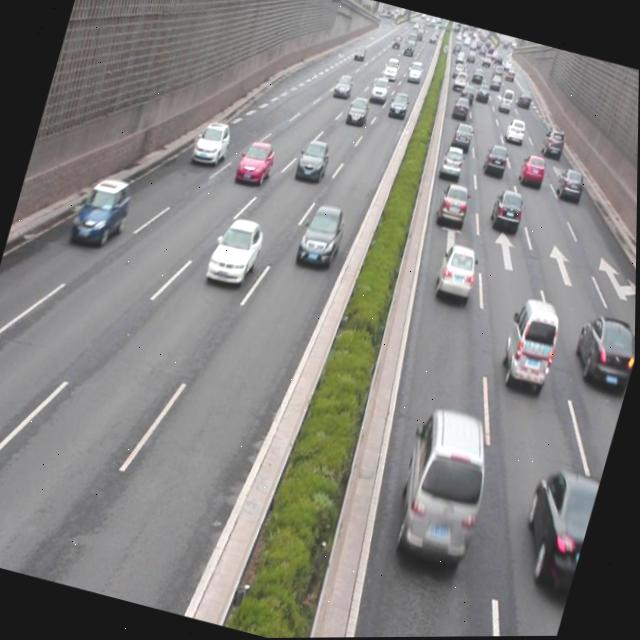car: (511, 461, 603, 593), (567, 310, 636, 396), (69, 170, 135, 252), (205, 213, 267, 290), (294, 200, 349, 271), (432, 241, 480, 303), (233, 134, 279, 190), (191, 117, 234, 167), (487, 184, 527, 236), (434, 178, 472, 228), (294, 136, 333, 184), (554, 165, 587, 203), (516, 151, 548, 190), (480, 140, 510, 180), (343, 92, 372, 131), (437, 144, 466, 182), (449, 119, 476, 154)
truck: (386, 403, 501, 563), (497, 295, 566, 390)
